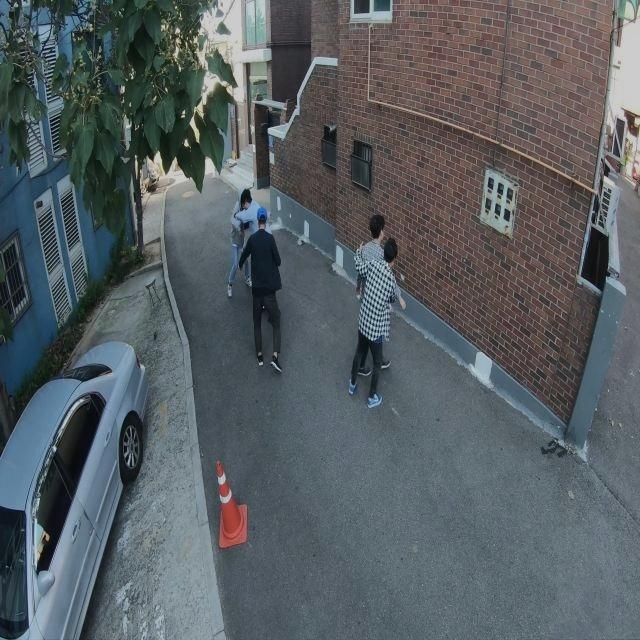fight: (227, 188, 273, 296)
non-fight: (349, 240, 400, 407), (355, 214, 406, 374), (240, 207, 283, 374)
